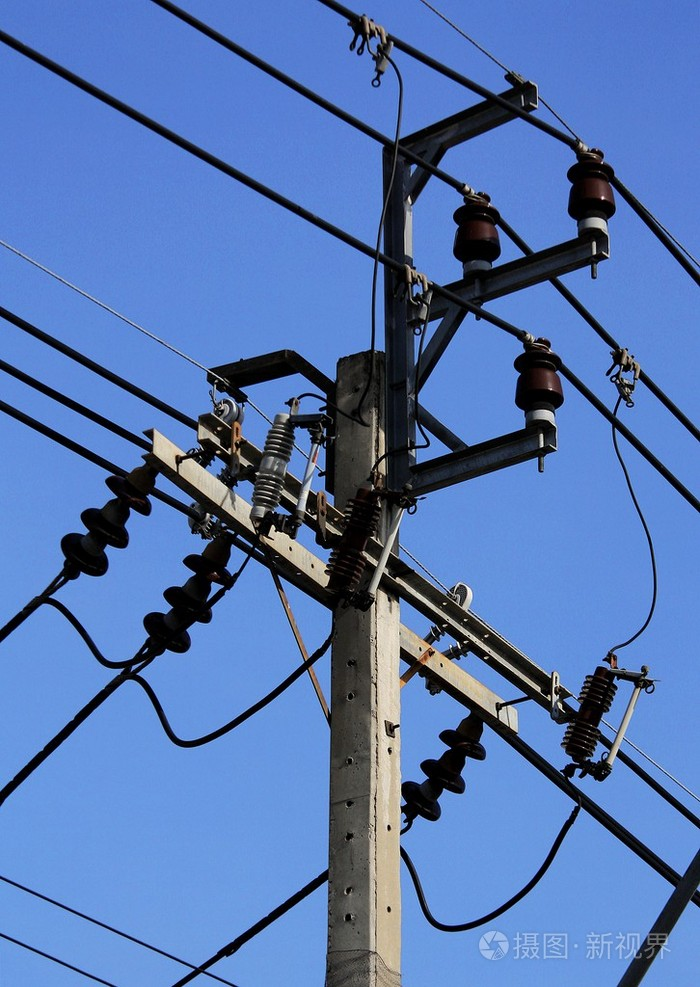insulator: (59, 475, 157, 577), (145, 552, 233, 652), (406, 730, 487, 819)
